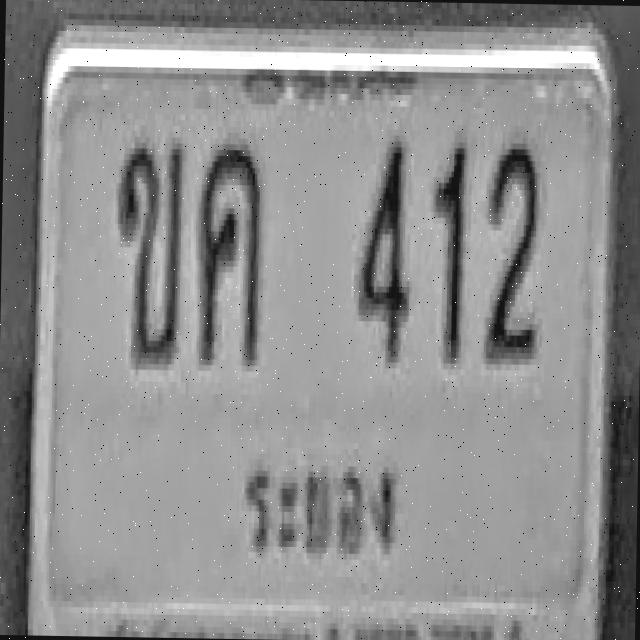1: (429, 138, 466, 360)
11KhorKhai: (114, 136, 183, 364)
13KhorKhwai: (195, 140, 262, 362)
2: (484, 137, 538, 359)
4: (356, 134, 410, 362)
Rayong: (232, 437, 404, 578)
